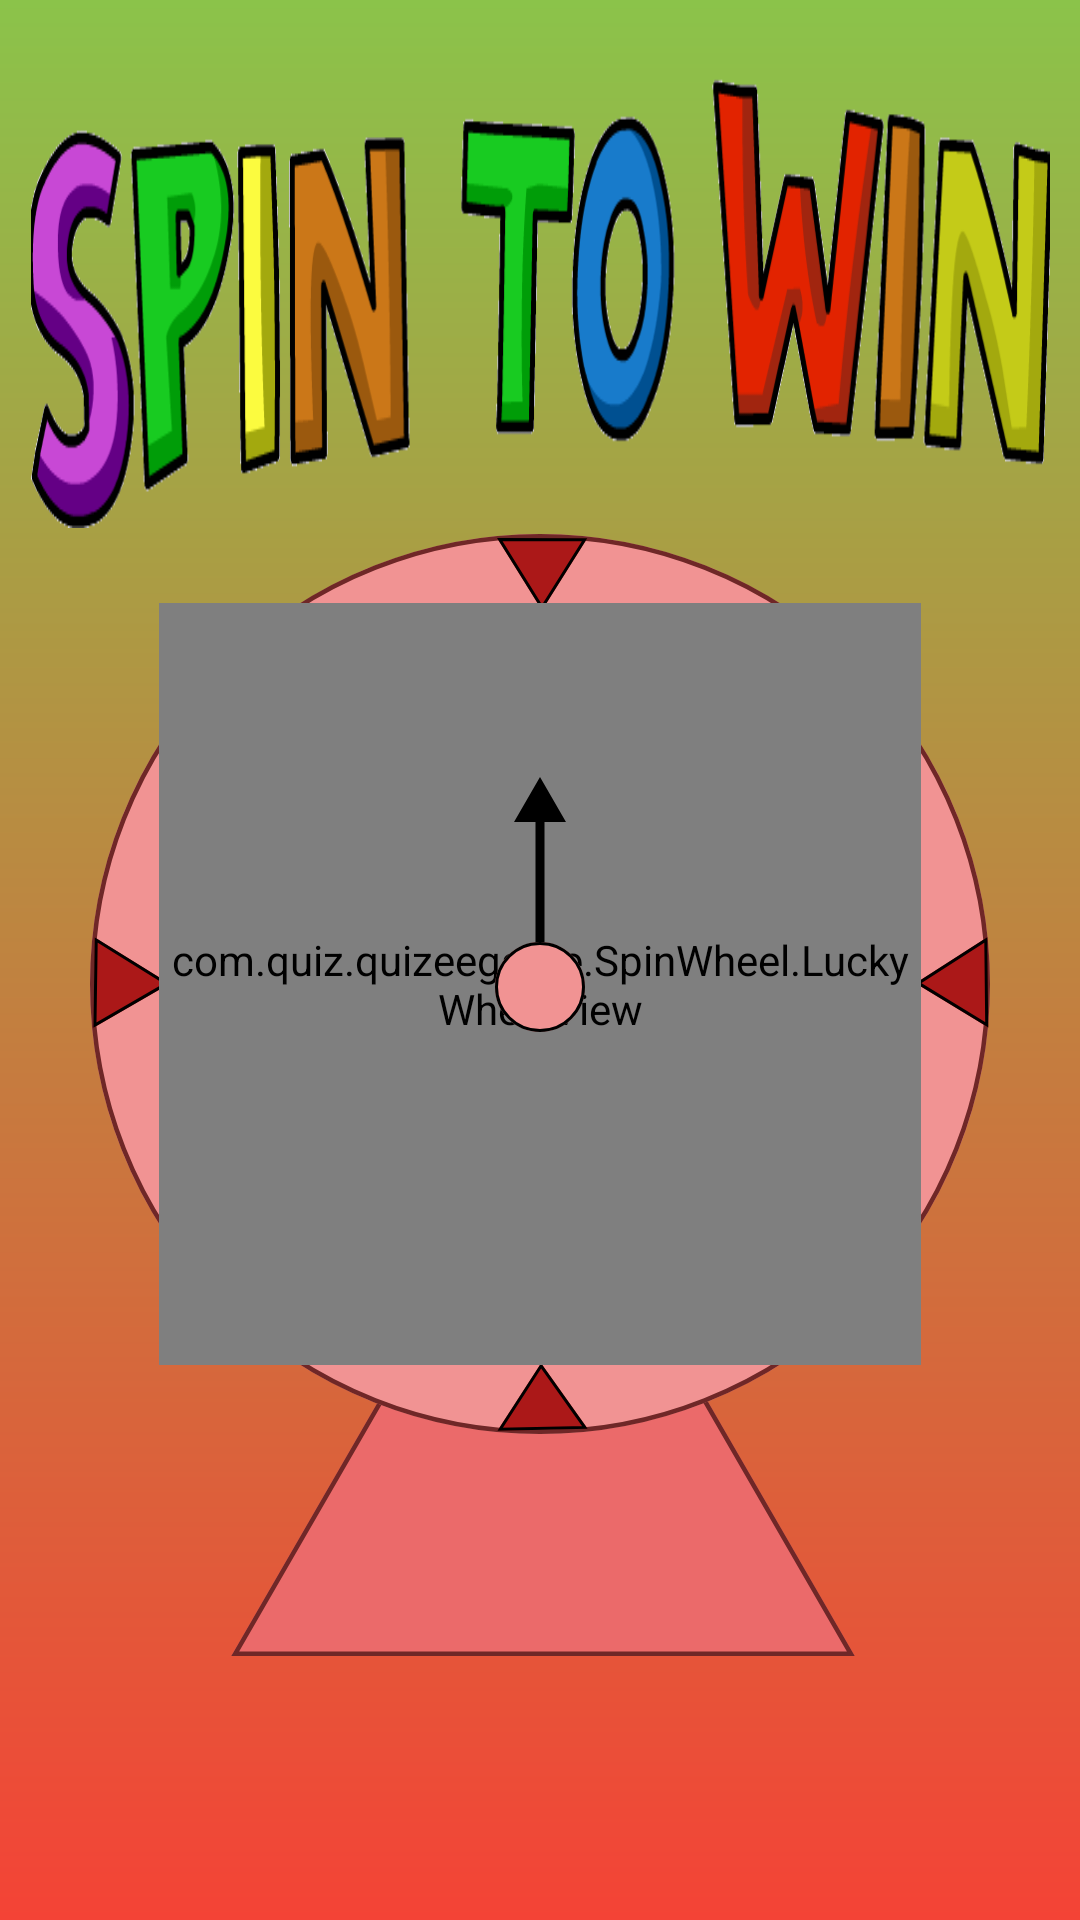

Where to tap for icons on this 1080x1920 app screen, as (x,y):
spinner pin: (537,904)
